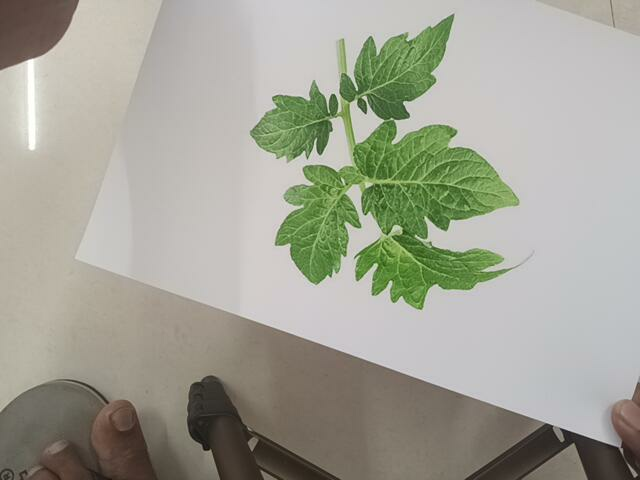Tomamto_Leaf_Healthy: (254, 13, 523, 319)
